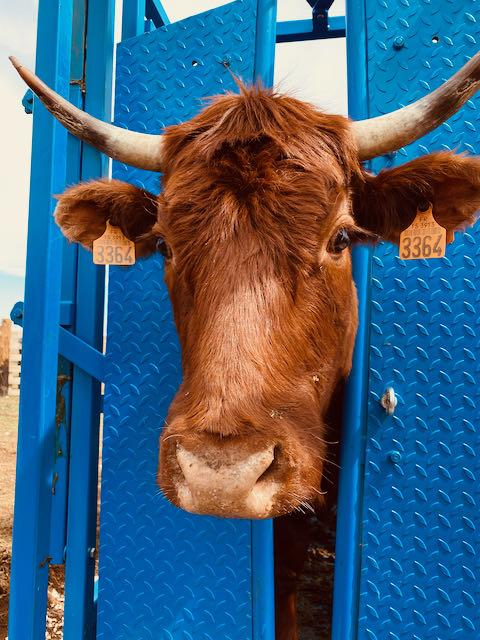muzzles: (140, 426, 336, 528)
